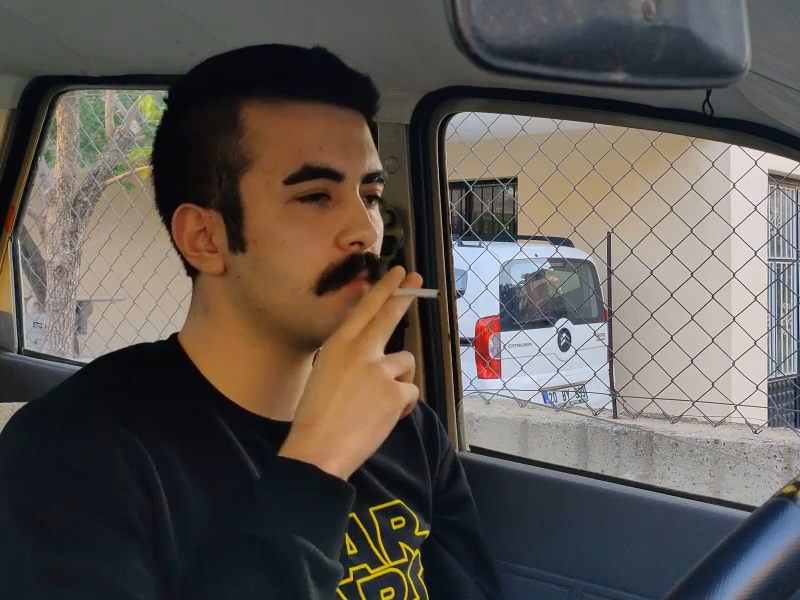sigara: (384, 280, 444, 306)
